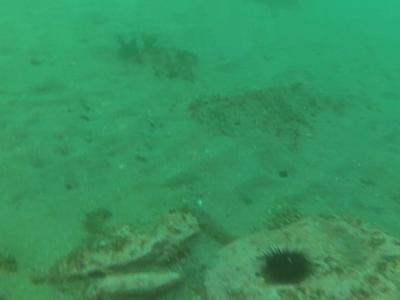holothurian: (264, 204, 308, 228)
urchin: (259, 244, 312, 286)
